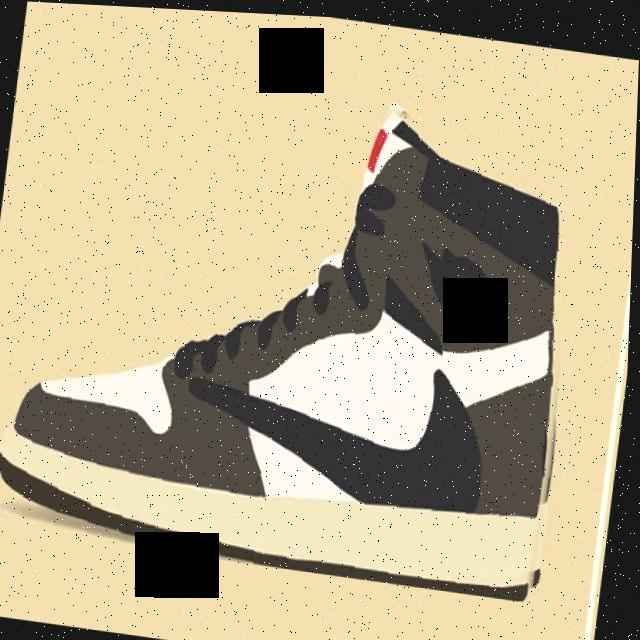shoe: (0, 45, 602, 600)
